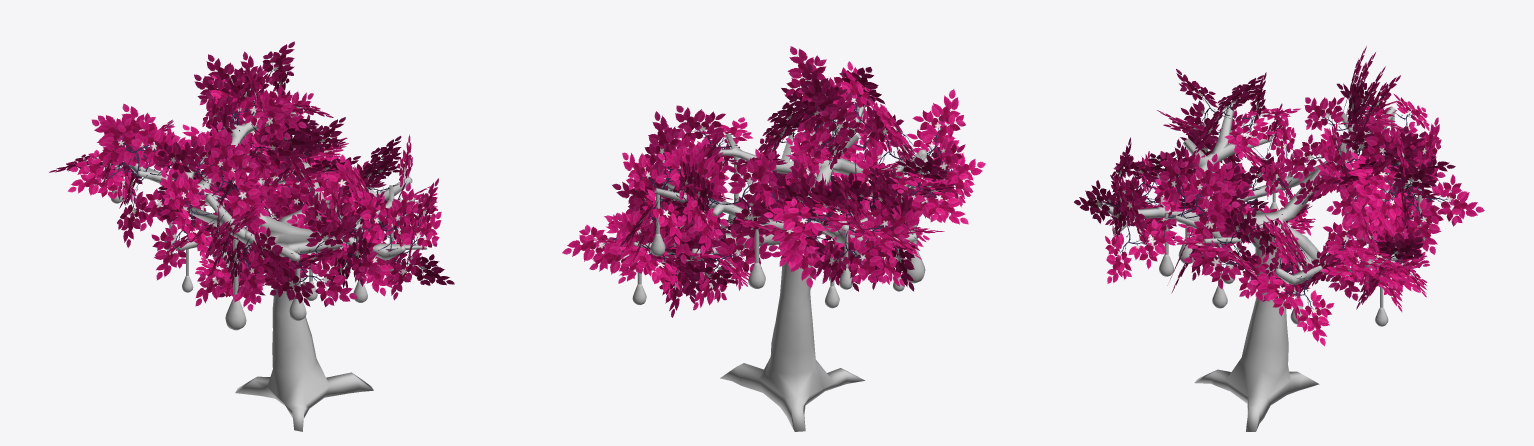
File: PinkTree2 (1).fbx
3 renders of one model, left to right at view 1: azimuth 30°, elevation 25°; view 2: azimuth 150°, elevation 25°; view 3: azimuth 270°, elevation 25°, orthographic. The views are drawn at different scales.
Parts seen in each view (by area): view 1: Tree10|PinkLeaves_1.001|Dupli|44, Tree10, OrangeFruit.029; view 2: Tree10|PinkLeaves_1.001|Dupli|44, Tree10, OrangeFruit.031; view 3: Tree10|PinkLeaves_1.001|Dupli|44, Tree10.
Boxes of the visible parts, x1,y1,x2,y2 form: Tree10|PinkLeaves_1.001|Dupli|44: (49,41,454,311); Tree10: (129,90,426,431); OrangeFruit.029: (225,239,246,330); Tree10|PinkLeaves_1.001|Dupli|44: (562,46,985,317); Tree10: (633,99,927,431); OrangeFruit.031: (748,216,765,288); Tree10|PinkLeaves_1.001|Dupli|44: (1074,46,1484,346); Tree10: (1089,105,1421,431).
Size of the model in its own units: 1900 by 1615 by 2128.
